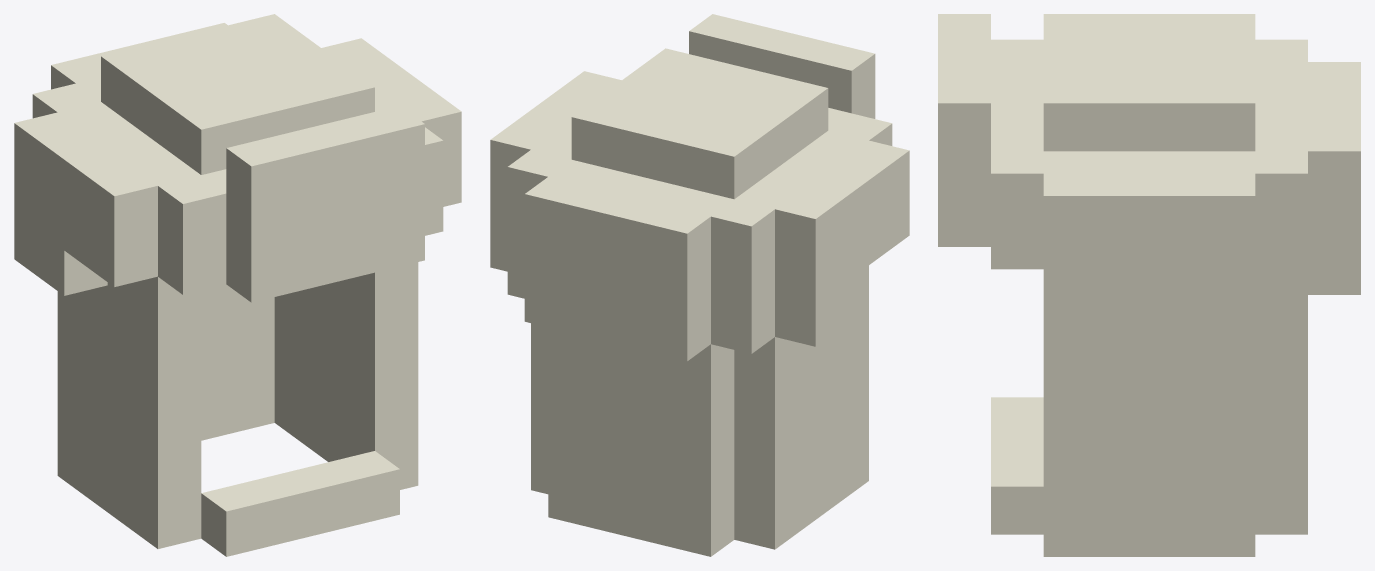
The model's file is char-185-helm_lgt_1g_sh.obj.
3 views of the same model, side by side, from view 1: azimuth 30°, elevation 25°; view 2: azimuth 150°, elevation 25°; view 3: azimuth 270°, elevation 25° (orthographic). The views are drawn at different scales.
Parts seen in each view (by area): view 1: helm_lgt_1g_sh; view 2: helm_lgt_1g_sh; view 3: helm_lgt_1g_sh.
Boxes of the visible parts, left/top/right/bottom form: helm_lgt_1g_sh: left=14, top=14, right=461, bottom=556; helm_lgt_1g_sh: left=490, top=14, right=909, bottom=556; helm_lgt_1g_sh: left=938, top=14, right=1360, bottom=556.
Size of the model in its own units: 0.8 by 0.9 by 0.8.
1 material, 1 textured.
